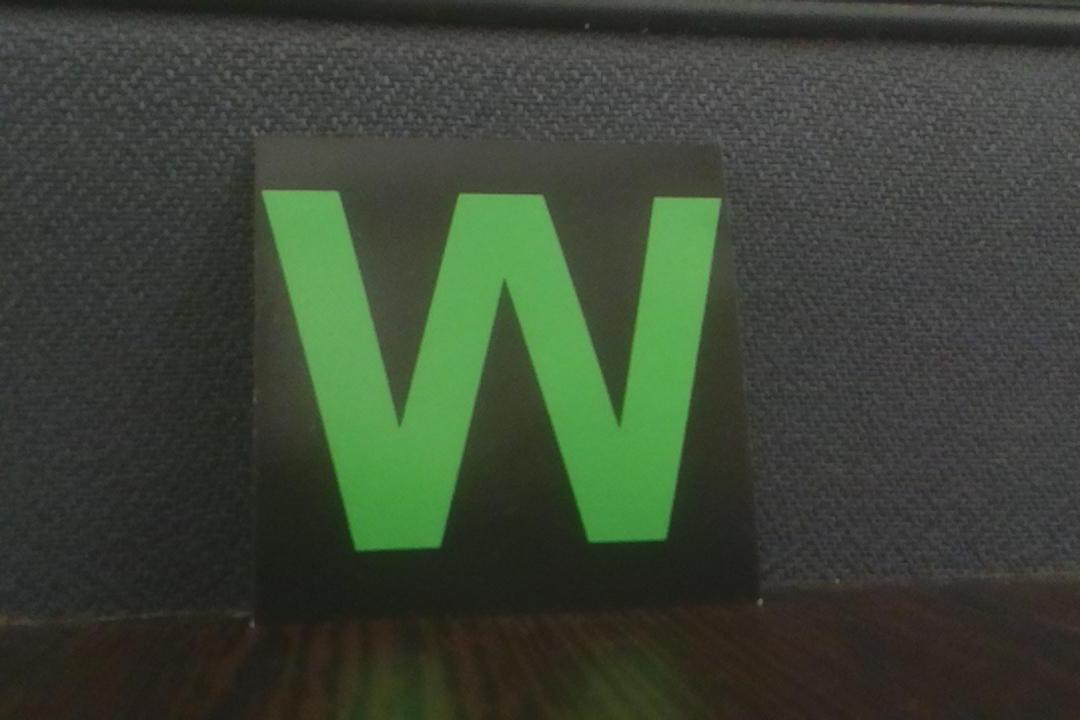alphabet_w: (250, 130, 758, 601)
